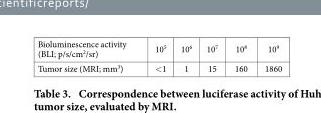table: (36, 37, 281, 74)
table column: (36, 37, 139, 74), (139, 37, 172, 74), (225, 37, 255, 74), (198, 37, 225, 74), (172, 37, 198, 74), (255, 37, 281, 74)
table row: (36, 37, 281, 60), (36, 60, 281, 74)
